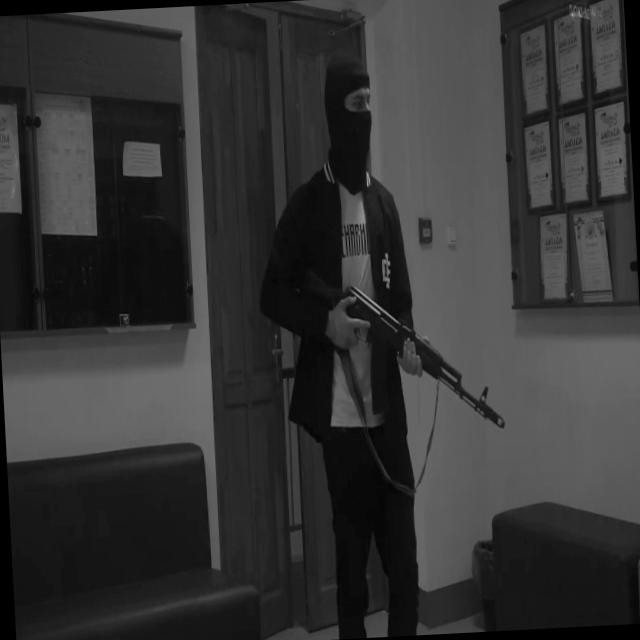gun: (298, 256, 507, 441)
person with a gun: (246, 45, 517, 640)
